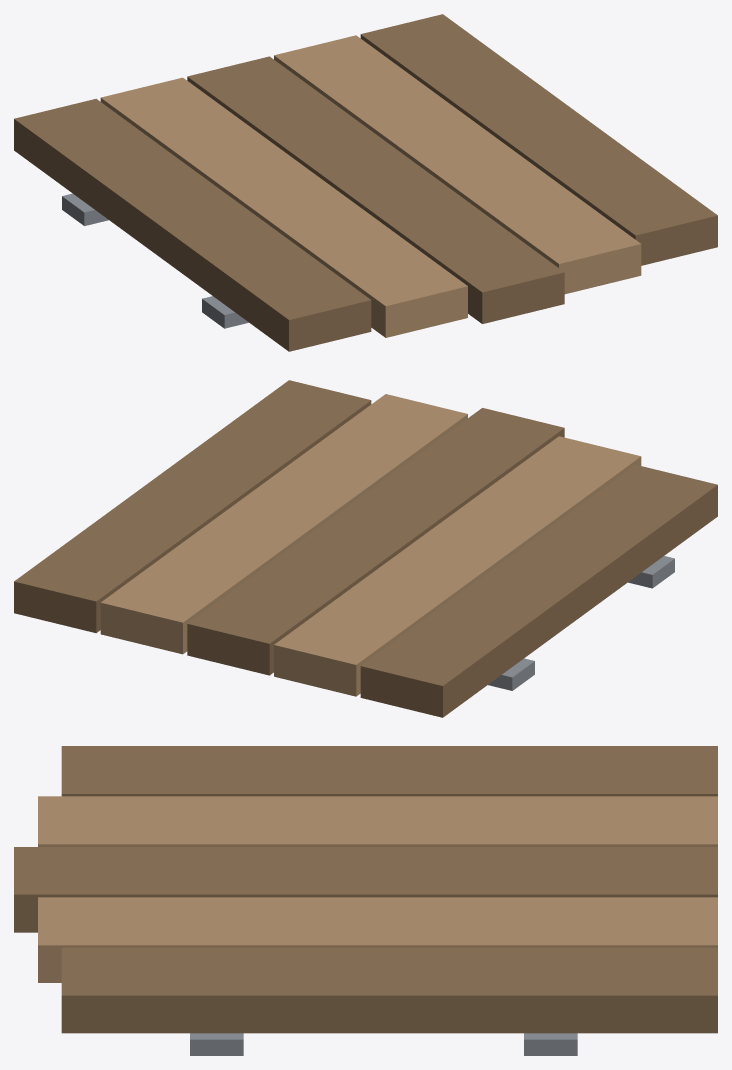
File: plankshield.glb
3 views of the same model, one above another, from view 1: azimuth 30°, elevation 25°; view 2: azimuth 150°, elevation 25°; view 3: azimuth 270°, elevation 25° (orthographic). The views are drawn at different scales.
Parts seen in each view (by area): view 1: plankshield; view 2: plankshield; view 3: plankshield.
Part boxes in pixels (bbox=[...]): plankshield: bbox=[14, 14, 717, 351]; plankshield: bbox=[14, 380, 717, 717]; plankshield: bbox=[14, 746, 717, 1055].
Size of the model in its own units: 0.52 by 0.05 by 0.59.
